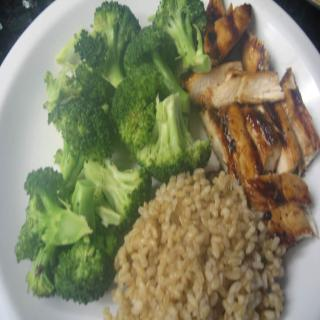Broccoli: (14, 0, 211, 305)
